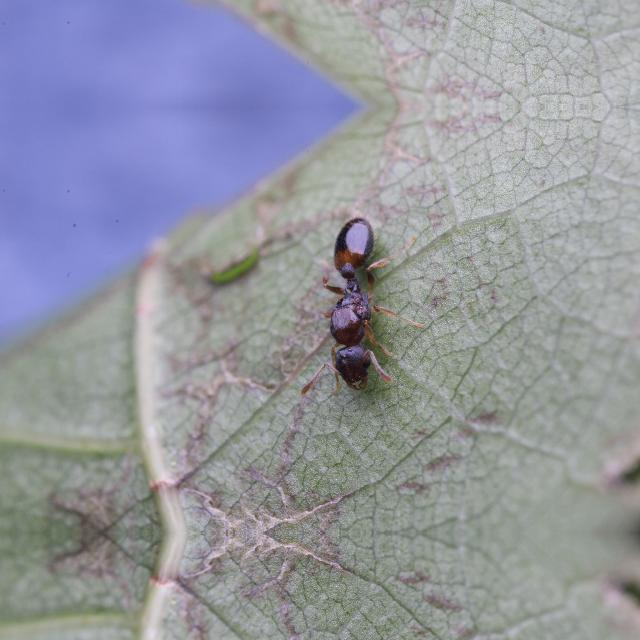Temnothorax: (294, 208, 406, 400)
